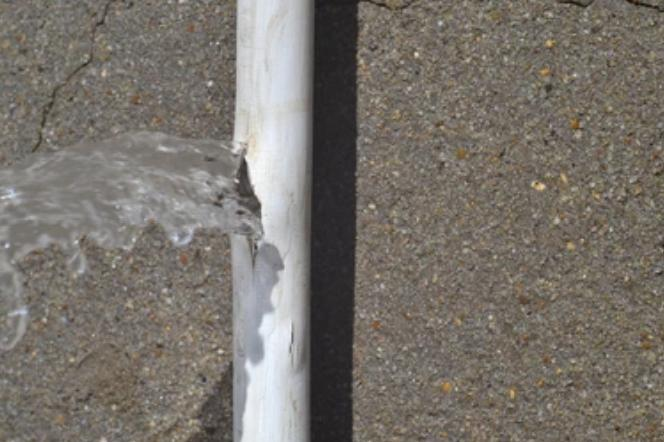pipe burst: (0, 137, 268, 343)
